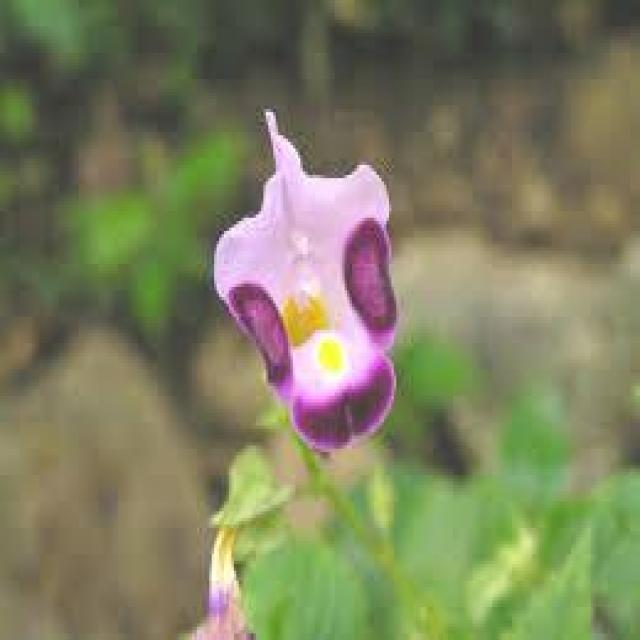organic waste: (194, 104, 416, 457)
